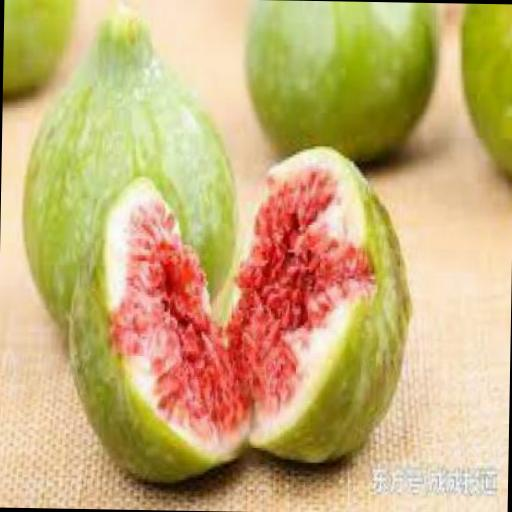biodegradable: (19, 0, 238, 349), (218, 142, 412, 464), (63, 170, 249, 484), (240, 0, 438, 157), (457, 3, 512, 180), (2, 0, 74, 92)
